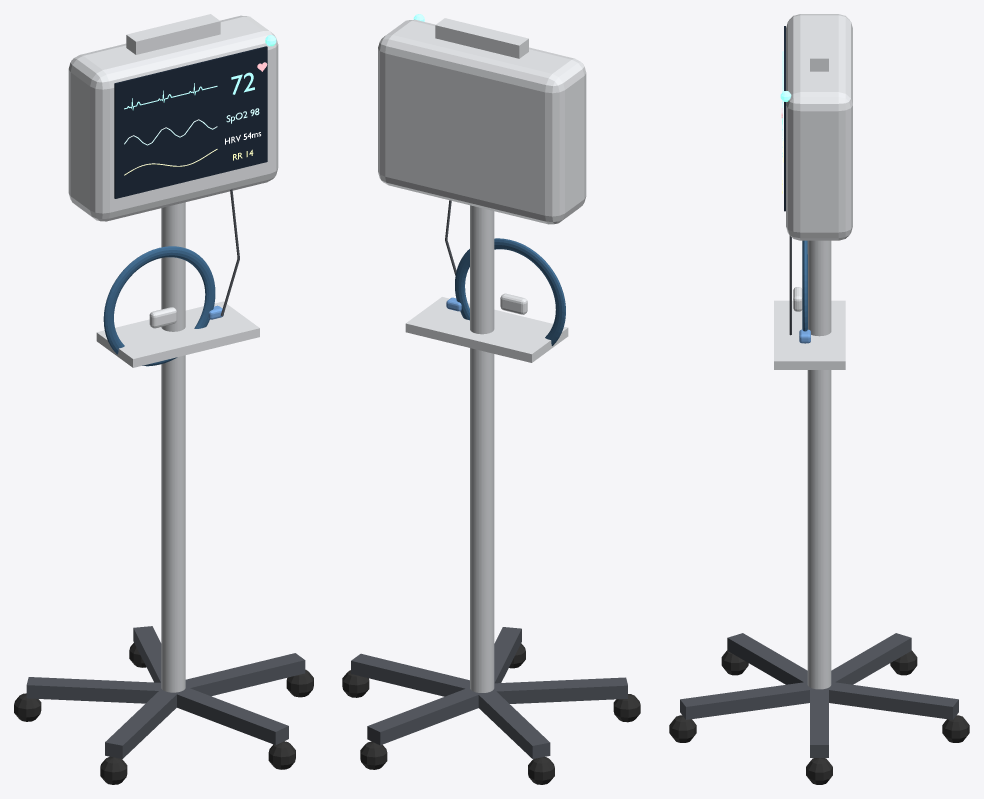
The model's file is heart_rate_monitor.glb.
3 views of the same model, side by side, from view 1: azimuth 30°, elevation 25°; view 2: azimuth 150°, elevation 25°; view 3: azimuth 270°, elevation 25° (orthographic). The views are drawn at different scales.
Visible parts, largest first — view 1: Monitor_Screen, Monitor_Housing, Stand_Pole, Accessory_Basket, Stand_Leg.002, Chest_Strap, Stand_Leg.004, Stand_Leg, Monitor_Handle, Stand_Leg.003, Stand_Leg.001, Caster.003 (+3 smaller); view 2: Monitor_Housing, Stand_Pole, Accessory_Basket, Stand_Leg.003, Stand_Leg.001, Stand_Leg, Chest_Strap, Stand_Leg.002, Monitor_Handle, Stand_Leg.004, Caster.001, Caster.002 (+2 smaller); view 3: Monitor_Housing, Stand_Pole, Accessory_Basket, Stand_Leg.004, Stand_Leg.001, Stand_Leg.002, Stand_Leg.003, Stand_Leg, Monitor_Handle, Caster, Caster.001, Caster.004 (+1 smaller).
Part boxes in pixels (x1,y1,x2,y2): Monitor_Screen: [114, 46, 267, 198]; Monitor_Housing: [68, 15, 278, 221]; Stand_Pole: [161, 202, 185, 692]; Accessory_Basket: [96, 301, 259, 367]; Stand_Leg.002: [26, 677, 161, 703]; Chest_Strap: [103, 246, 215, 366]; Stand_Leg.004: [177, 688, 288, 745]; Stand_Leg: [185, 653, 305, 696]; Monitor_Handle: [126, 14, 220, 54]; Stand_Leg.003: [105, 689, 178, 758]; Stand_Leg.001: [133, 626, 161, 682]; Caster.003: [100, 756, 127, 784]; Monitor_Housing: [378, 19, 586, 224]; Stand_Pole: [470, 205, 494, 692]; Accessory_Basket: [405, 297, 568, 362]; Stand_Leg.003: [494, 677, 627, 703]; Stand_Leg.001: [367, 687, 482, 745]; Stand_Leg: [351, 653, 470, 696]; Chest_Strap: [455, 238, 565, 345]; Stand_Leg.002: [478, 689, 550, 758]; Monitor_Handle: [435, 18, 528, 58]; Stand_Leg.004: [494, 627, 521, 683]; Caster.001: [360, 741, 387, 769]; Caster.002: [528, 757, 554, 784]; Monitor_Housing: [786, 14, 852, 240]; Stand_Pole: [807, 240, 831, 689]; Accessory_Basket: [774, 300, 845, 369]; Stand_Leg.004: [680, 682, 814, 719]; Stand_Leg.001: [829, 682, 958, 719]; Stand_Leg.002: [831, 633, 911, 684]; Stand_Leg.003: [727, 633, 807, 684]; Stand_Leg: [810, 687, 828, 757]; Monitor_Handle: [810, 18, 828, 71]; Caster: [806, 758, 832, 784]; Caster.001: [942, 715, 969, 742]; Caster.004: [669, 715, 696, 742].
Bounding box in the file's own units: 0.597 × 1.58 × 0.6277.
